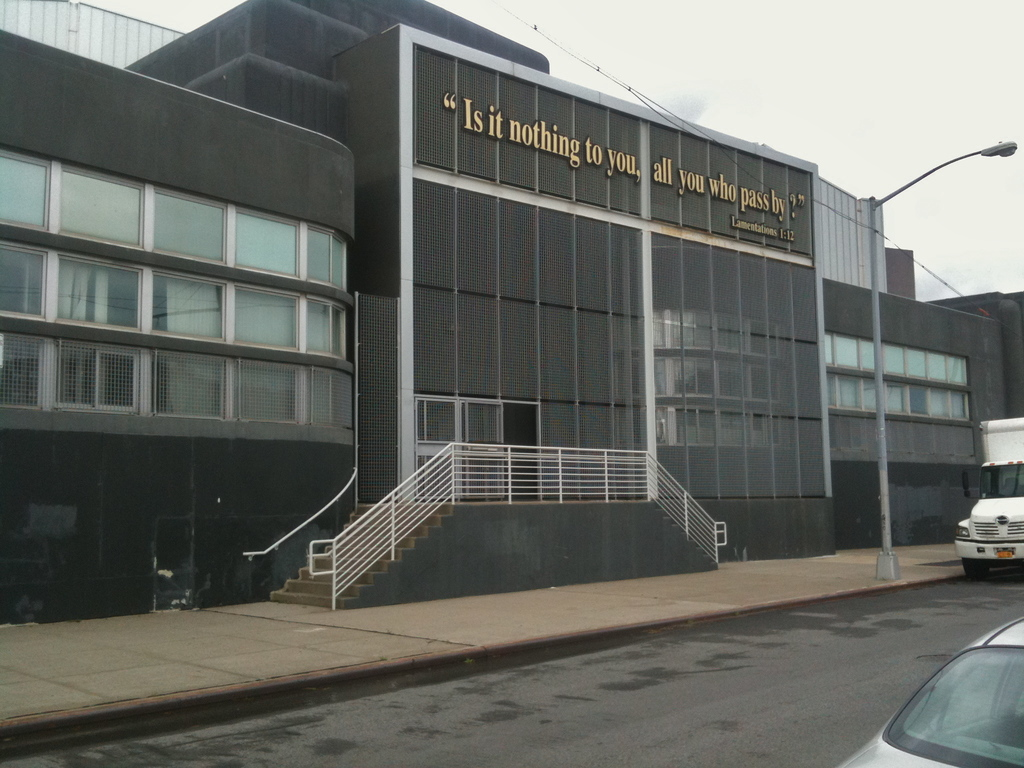car: (817, 603, 1024, 768), (955, 408, 1024, 563)
